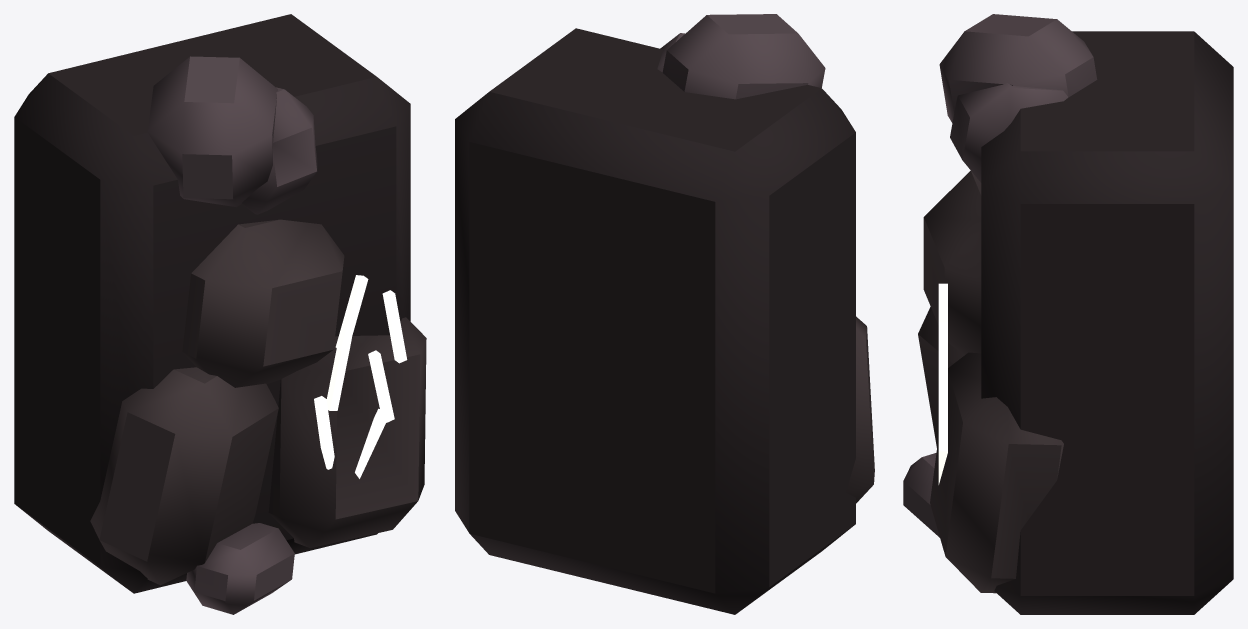
Rendered from cv_glut_wall_1.glb.
The picture shows the model from 3 angles, left to right: view 1: azimuth 30°, elevation 25°; view 2: azimuth 150°, elevation 25°; view 3: azimuth 270°, elevation 25°; orthographic projection.
Parts seen in each view (by area): view 1: body, crack_glow; view 2: body; view 3: body, crack_glow.
Part boxes in pixels (x1,y1,x2,y2): body: (14,14,426,614); crack_glow: (314,275,407,478); body: (455,14,874,614); body: (903,14,1233,614); crack_glow: (938,283,947,484).
Bounding box in the file's own units: 2.44 × 3.62 × 2.09.
